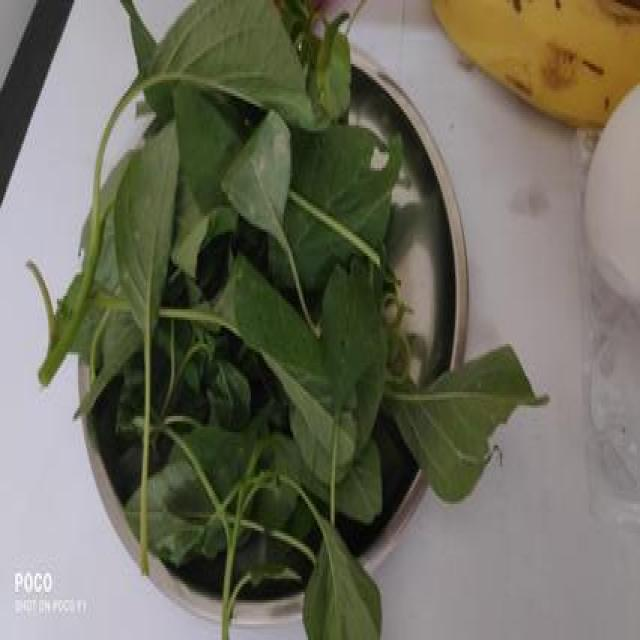Fresh_Spinach: (85, 18, 498, 581)
